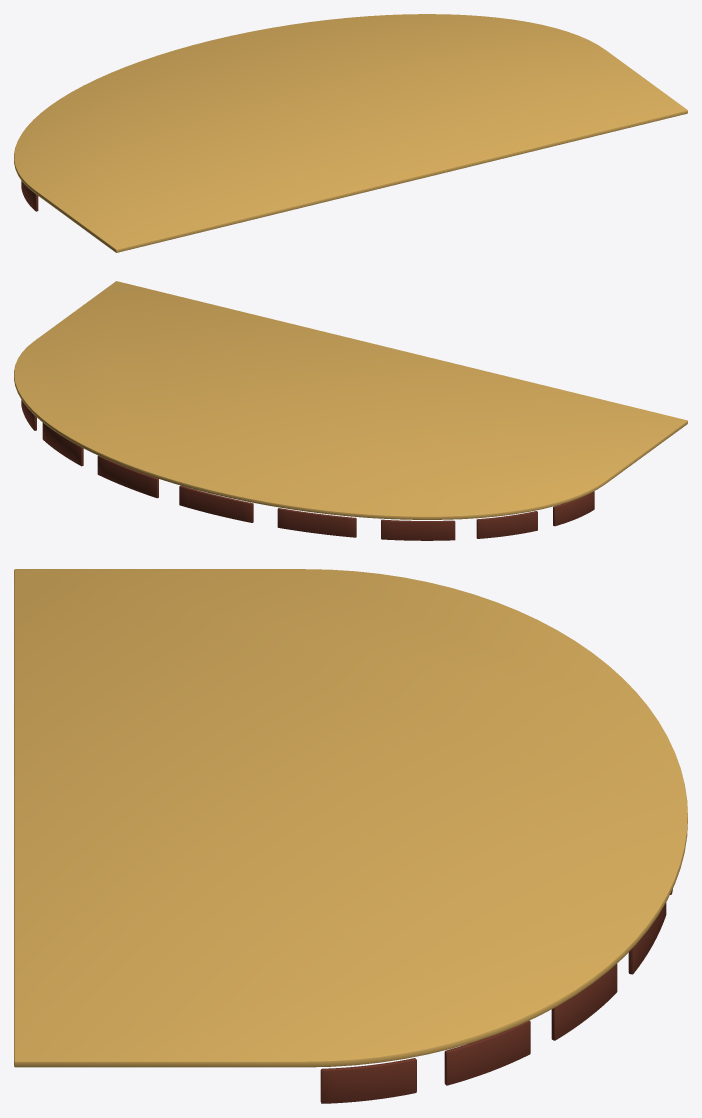
Rendered from Th_StageTrim.fbx.
The picture shows the model from 3 angles, top to bottom: view 1: azimuth 30°, elevation 25°; view 2: azimuth 150°, elevation 25°; view 3: azimuth 270°, elevation 25°; orthographic projection. The views are drawn at different scales.
Parts seen in each view (by area): view 1: Th_StageTrim; view 2: Th_StageTrim; view 3: Th_StageTrim.
Part boxes in pixels (x1,y1,x2,y2): Th_StageTrim: (14, 14, 687, 252); Th_StageTrim: (14, 281, 687, 540); Th_StageTrim: (14, 569, 687, 1103).
Bounding box in the file's own units: 1.28 × 0.059 × 0.74.
